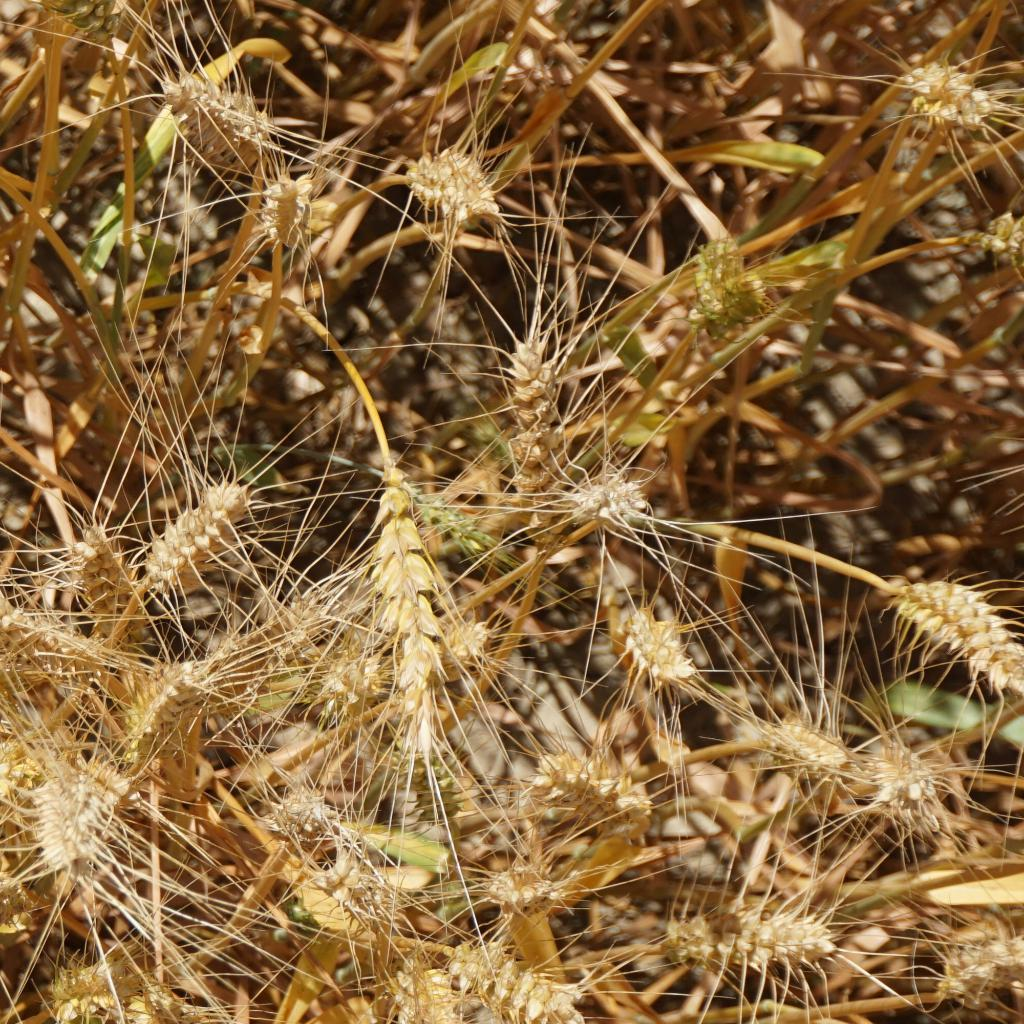0-0: (364, 464, 451, 756), (866, 543, 1021, 702), (663, 889, 848, 982), (444, 917, 581, 1024), (46, 523, 164, 635), (262, 774, 384, 880), (488, 330, 572, 482), (0, 581, 112, 687), (529, 738, 657, 830), (681, 222, 791, 326), (884, 47, 994, 147), (921, 921, 1024, 1022), (397, 139, 504, 234), (23, 761, 116, 870), (543, 462, 665, 541), (145, 486, 238, 588), (29, 941, 135, 1024), (852, 714, 935, 819), (758, 700, 852, 787), (159, 76, 277, 145), (236, 155, 328, 242), (128, 659, 214, 750), (612, 596, 695, 689), (386, 958, 482, 1024), (303, 647, 374, 728), (486, 837, 551, 919), (433, 602, 498, 683), (120, 976, 226, 1024), (0, 718, 27, 813)
